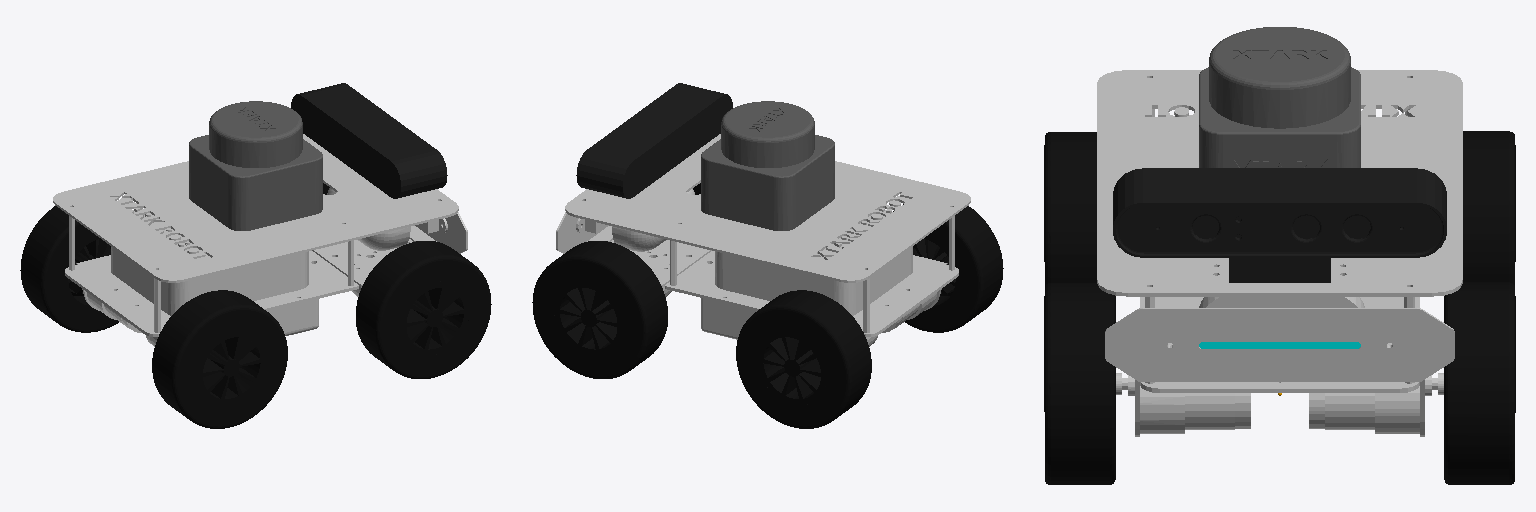
The robot description file, URDF, robot "tarkbot_robot":
<?xml version="1.0" encoding="utf-8"?>

<robot name="tarkbot_robot">

    <!-- 机器人底部中心原点 -->
    <link name="base_footprint">
        <visual>
            <geometry>
                <sphere radius="0.001" />
            </geometry>
        </visual>
    </link>

    <!-- 机器人底盘 -->
    <link name="base_link">
        <visual>
            <geometry>
                <mesh filename="package://tarkbot_description/meshes/base_r20_fwl.stl" />
            </geometry>
            <origin xyz="0 0 0" rpy="0 0 0" />
            <material name="base_color">
                <!-- <color rgba="0.000 0.500 0.500 1" /> -->
                <!-- <color rgba="0.000 0.000 1.000 1" /> -->
                <!-- <color rgba="1.000 0.500 0.000 1" /> -->
                <color rgba="0.800 0.800 0.800 1" />
            </material>
        </visual>
    </link>    

        <!-- 机器人轮子 -->
    <link name="wheel_fl">
        <visual>
            <geometry>
                <mesh filename="package://tarkbot_description/meshes/wheel/w100.stl" />
            </geometry>
            <origin xyz="0 0 0" rpy="0 0 0" />
            <material name="wheel_color">
                <color rgba="0.1 0.1 0.1 1" />
            </material>
        </visual>
    </link>  

    <link name="wheel_fr">
        <visual>
            <geometry>
                <mesh filename="package://tarkbot_description/meshes/wheel/w100.stl" />
            </geometry>
            <origin xyz="0 0 0" rpy="0 0 0" />
            <material name="wheel_color">
                <color rgba="0.1 0.1 0.1 1" />
            </material>
        </visual>
    </link>  

    <link name="wheel_bl">
        <visual>
            <geometry>
                <mesh filename="package://tarkbot_description/meshes/wheel/w100.stl" />
            </geometry>
            <origin xyz="0 0 0" rpy="0 0 0" />
            <material name="wheel_color">
                <color rgba="0.1 0.1 0.1 1" />
            </material>
        </visual>
    </link>  

    <link name="wheel_br">
        <visual>
            <geometry>
                <mesh filename="package://tarkbot_description/meshes/wheel/w100.stl" />
            </geometry>
            <origin xyz="0 0 0" rpy="0 0 0" />
            <material name="wheel_color">
                <color rgba="0.1 0.1 0.1 1" />
            </material>
        </visual>
    </link>  

    <!-- 机器人雷达 -->
    <link name="laser_link">
        <visual>
            <geometry>
                <mesh filename="package://tarkbot_description/meshes/laser.stl" />
            </geometry>
            <origin xyz="0 0 -0.06" rpy="0 0 0" />
            <material name="laser_color">
                <color rgba="0.4 0.4 0.4 1" />
            </material>
        </visual>
    </link> 

    <!-- 机器人摄像头 -->
    <link name="camera_link">
        <visual>
            <geometry>
                <mesh filename="package://tarkbot_description/meshes/depthcamera.stl" />
            </geometry>
            <origin xyz="-0.037 0 0" rpy="0 0 0" />
            <material name="camera_color">
                <color rgba="0.15 0.15 0.15 1" />
            </material>
        </visual>
    </link>

    <!-- 机器人IMU传感器 -->
    <link name="imu_link">
        <visual>
            <geometry>
                <sphere radius="0.010" />
            </geometry>
            <origin xyz="0 0 0" rpy="0 0 0" />
            <material name="imu_color">
                <color rgba="1 1 0 1" />
            </material>
        </visual>
    </link>

    <!-- 机器人前灯 -->
    <link name="light_link">
        <visual>
            <geometry>
                <mesh filename="package://tarkbot_description/meshes/light.stl" />
            </geometry>
            <origin xyz="0 0 0" rpy="0 0 0" />
            <material name="light_color">
                <color rgba="0.0 1.0 1.0 1" />
            </material>
        </visual>
    </link>

    <!-- 底盘与原点连接的关节 -->
    <joint name="baselink2footprint" type="fixed">
        <origin xyz="0 0 0.1155" rpy="0 0 0"/>
        <parent link="base_footprint" />
        <child  link="base_link" />
    </joint>

        <!-- 轮子到与底盘连接的关节 -->
    <joint name="wheelfl2base" type="fixed">
        <origin xyz="0.088 0.096 -0.069" rpy="0 0 1.57"/>
        <parent link="base_link" />
        <child  link="wheel_fl" />
    </joint>

    <joint name="wheelfr2base" type="fixed">
        <origin xyz="0.088 -0.096 -0.069" rpy="0 0 -1.57"/>
        <parent link="base_link" />
        <child  link="wheel_fr" />
    </joint>

    <joint name="wheelbl2base" type="fixed">
        <origin xyz="-0.088 0.096 -0.069" rpy="0 0 1.57"/>
        <parent link="base_link" />
        <child  link="wheel_bl" />
    </joint>

    <joint name="wheelbr2base" type="fixed">
        <origin xyz="-0.088 -0.096 -0.069" rpy="0 0 -1.57"/>
        <parent link="base_link" />
        <child  link="wheel_br" />
    </joint>

    <!-- 雷达到与底盘连接的关节 -->
    <joint name="laser2base" type="fixed">
        <origin xyz="0 0 0.06" rpy="0 0 0"/>
        <parent link="base_link" />
        <child  link="laser_link" />
    </joint>

    <!-- 深度摄像头与底盘连接的关节 -->
    <joint name="camera2base" type="fixed">
        <origin xyz="0.115 0 0.0285" rpy="0 0 0"/>
        <parent link="base_link" />
        <child  link="camera_link" />
    </joint>

    <!-- IMU传感器与底盘连接的关节 -->
    <joint name="imu2base" type="fixed">
        <origin xyz="0 0 0" rpy="0 0 0"/>
        <parent link="base_link" />
        <child  link="imu_link" />
    </joint>

    <!-- 前灯与底盘连接的关节 -->
    <joint name="light2base" type="fixed">
        <origin xyz="0.133 0 -0.027 " rpy="0 0 0"/>
        <parent link="base_link" />
        <child  link="light_link" />
    </joint>

</robot>

--- What the picture shows (computed from the rendered views, not written in the file) ---
Views: 3 orthographic renders of the robot side by side, from view 1: azimuth 30°, elevation 25°; view 2: azimuth 150°, elevation 25°; view 3: azimuth 270°, elevation 25°.
Model tarkbot_robot with 10 links and 9 joints (9 fixed), rooted at base_footprint, posed every joint at zero.
Visible links, largest first — view 1: base_link, wheel_br, wheel_fr, laser_link, camera_link, wheel_bl; view 2: base_link, wheel_bl, wheel_fl, laser_link, camera_link, wheel_br; view 3: base_link, camera_link, laser_link, wheel_fl, wheel_fr, wheel_bl, wheel_br, light_link.
Boxes of the visible links, <box> form: base_link: <box>53,134,467,346</box>; wheel_br: <box>152,290,287,428</box>; wheel_fr: <box>356,241,491,378</box>; laser_link: <box>189,101,322,230</box>; camera_link: <box>291,83,447,198</box>; wheel_bl: <box>20,206,118,332</box>; base_link: <box>556,134,970,346</box>; wheel_bl: <box>736,290,871,428</box>; wheel_fl: <box>532,241,667,378</box>; laser_link: <box>701,101,834,230</box>; camera_link: <box>576,83,732,198</box>; wheel_br: <box>893,204,1003,332</box>; base_link: <box>1097,70,1462,436</box>; camera_link: <box>1113,168,1446,282</box>; laser_link: <box>1199,27,1360,167</box>; wheel_fl: <box>1444,282,1515,484</box>; wheel_fr: <box>1044,283,1115,484</box>; wheel_bl: <box>1463,131,1515,284</box>; wheel_br: <box>1044,132,1096,285</box>; light_link: <box>1199,342,1360,348</box>.
Size in the robot's own frame: 0.276 by 0.2321 by 0.188 metres.
Meshes: 5 distinct files referenced, 8 mesh visuals loaded (5 binary STL).